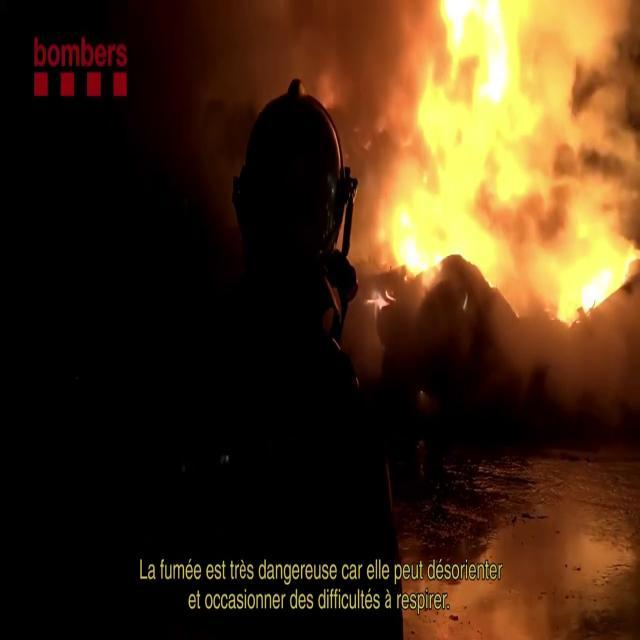Fire: (373, 0, 640, 360)
